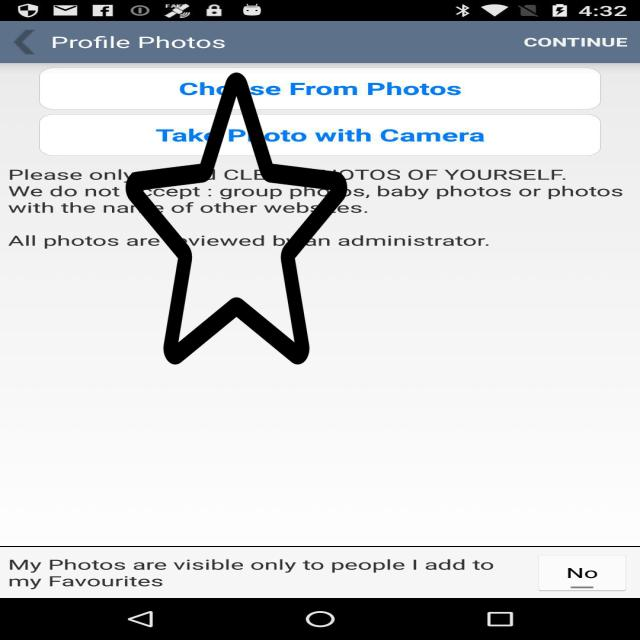forced continuity: (126, 66, 347, 371)
